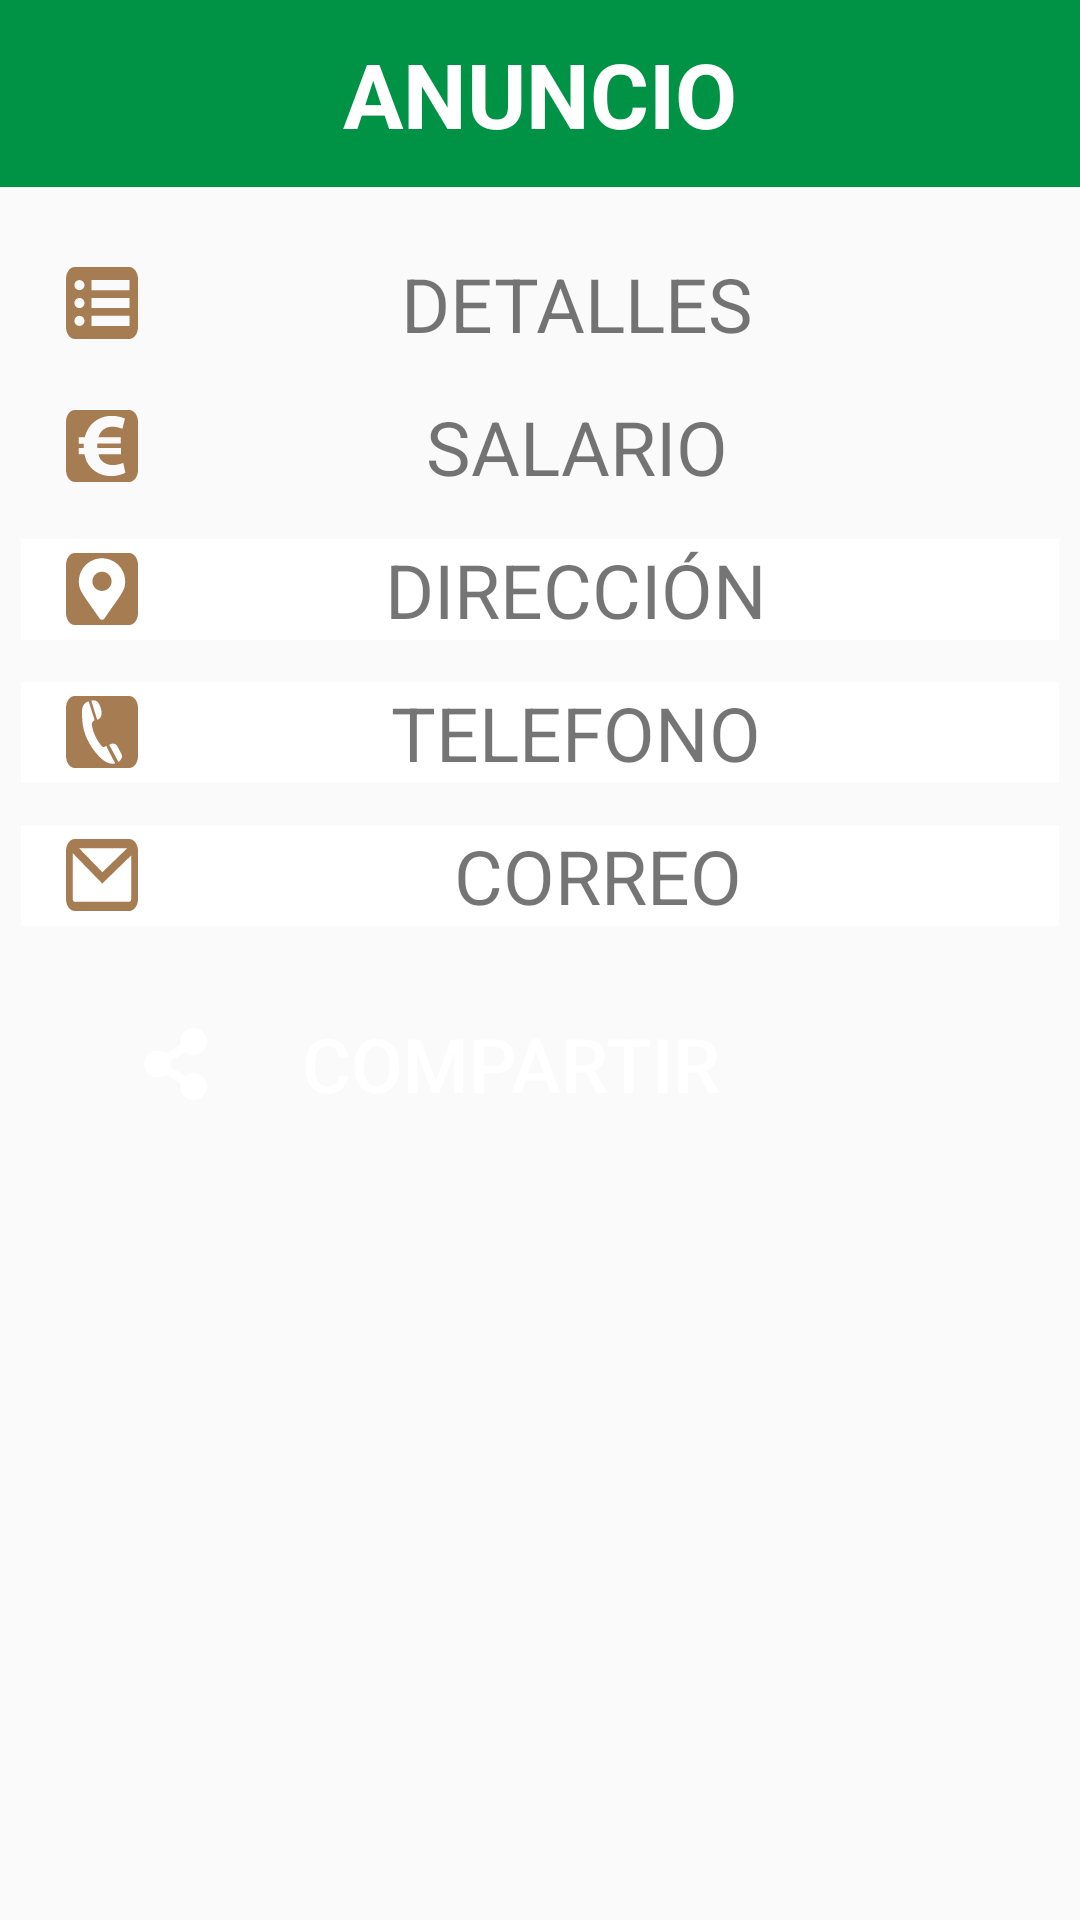

Icon click points for this 1080*1920 phone screenshot, format [x,y]:
descripcion: [102,303]
direccion: [102,589]
